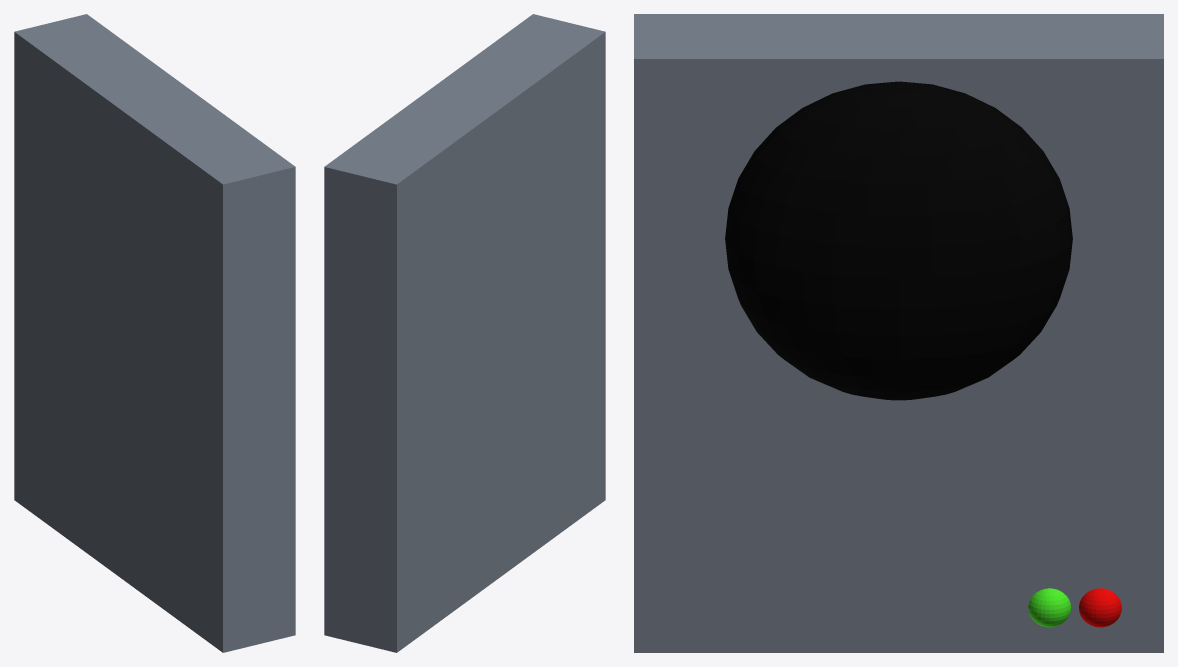
Rendered from speaker.fbx.
3 renders of one model, left to right at view 1: azimuth 30°, elevation 25°; view 2: azimuth 150°, elevation 25°; view 3: azimuth 270°, elevation 25°, orthographic. The views are drawn at different scales.
Visible parts, largest first — view 1: Cube; view 2: Cube; view 3: Cube, Sphere, Sphere.001, Sphere.002.
Boxes of the visible parts, x1=… form: Cube: x1=14, y1=14, x2=295, y2=652; Cube: x1=324, y1=14, x2=605, y2=652; Cube: x1=634, y1=14, x2=1163, y2=652; Sphere: x1=725, y1=81, x2=1072, y2=400; Sphere.001: x1=1079, y1=588, x2=1121, y2=627; Sphere.002: x1=1028, y1=588, x2=1070, y2=627.
Bounding box in the file's own units: 87.86 × 287 × 232.
